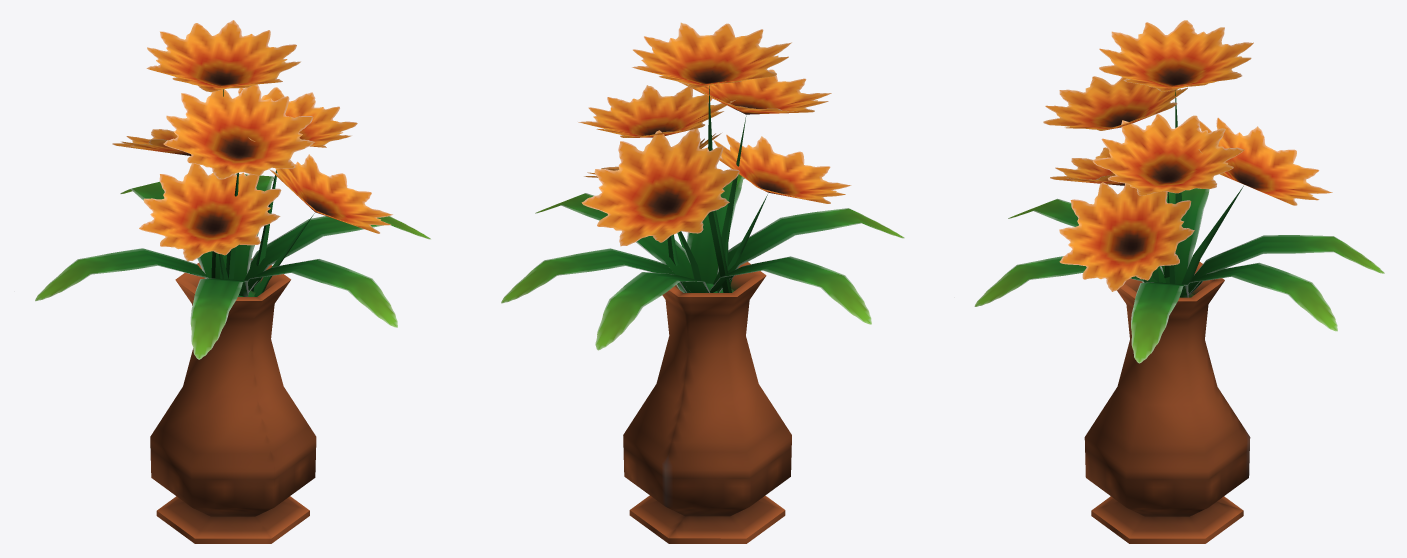
Rendered from Church_Flower.FBX.
The picture shows the model from 3 angles, left to right: view 1: azimuth 30°, elevation 25°; view 2: azimuth 150°, elevation 25°; view 3: azimuth 270°, elevation 25°; orthographic projection.
Visible parts, largest first — view 1: Church_Flower; view 2: Church_Flower; view 3: Church_Flower.
Boxes of the visible parts, left/top/right/bottom form: Church_Flower: left=35, top=20, right=430, bottom=543; Church_Flower: left=501, top=22, right=904, bottom=543; Church_Flower: left=974, top=20, right=1384, bottom=543.
Size of the model in its own units: 45.8 by 52.45 by 45.14.
